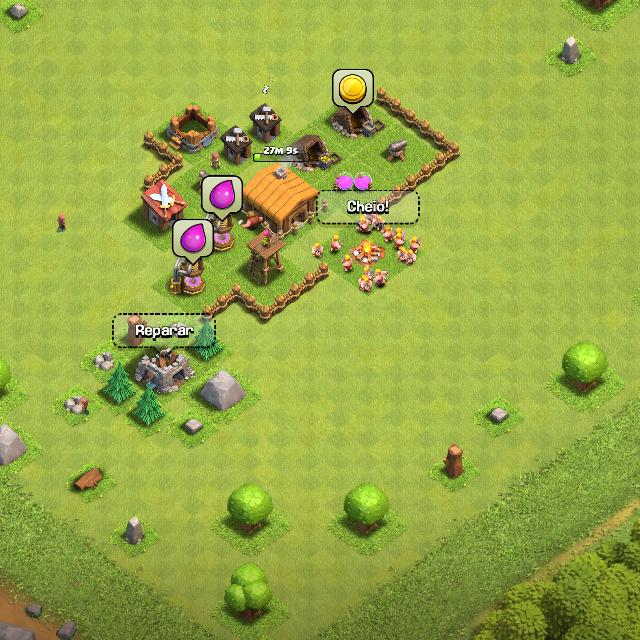Elixir: (173, 219, 214, 265), (202, 175, 242, 221)
coin: (333, 67, 373, 114)
